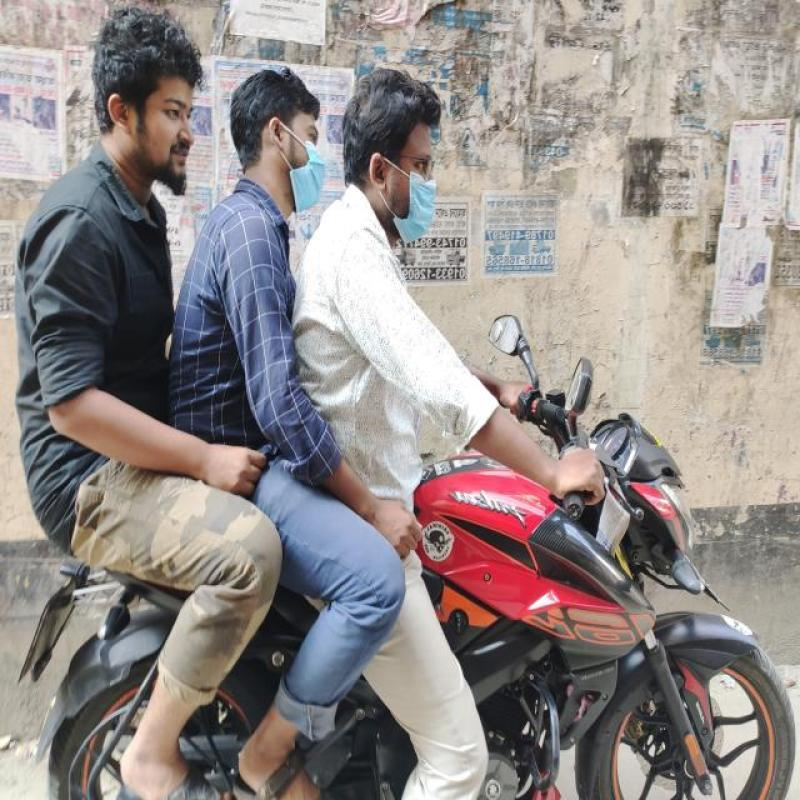nohelmet: (342, 61, 463, 270), (82, 19, 218, 198), (224, 39, 330, 228)
